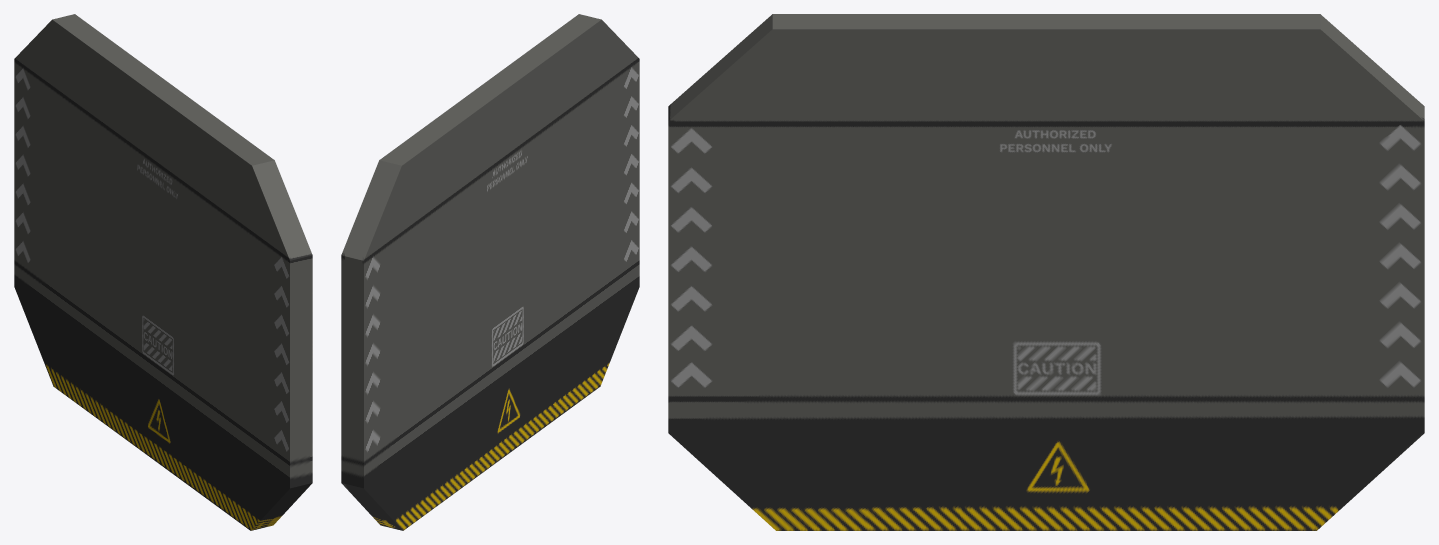
Rendered from lab_hatch_door.fbx.
3 views of the same model, side by side, from view 1: azimuth 30°, elevation 25°; view 2: azimuth 150°, elevation 25°; view 3: azimuth 270°, elevation 25° (orthographic). The views are drawn at different scales.
Visible parts, largest first — view 1: lab_hatch_door; view 2: lab_hatch_door; view 3: lab_hatch_door.
Part boxes in pixels (box(x1,y1,x2,y2)): lab_hatch_door: box(14, 14, 312, 530); lab_hatch_door: box(341, 14, 639, 530); lab_hatch_door: box(668, 14, 1424, 530).
Size of the model in its own units: 0.1048 by 1.61 by 2.21.
1 material, 1 textured.
